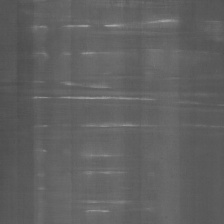crease: (25, 13, 207, 219)
